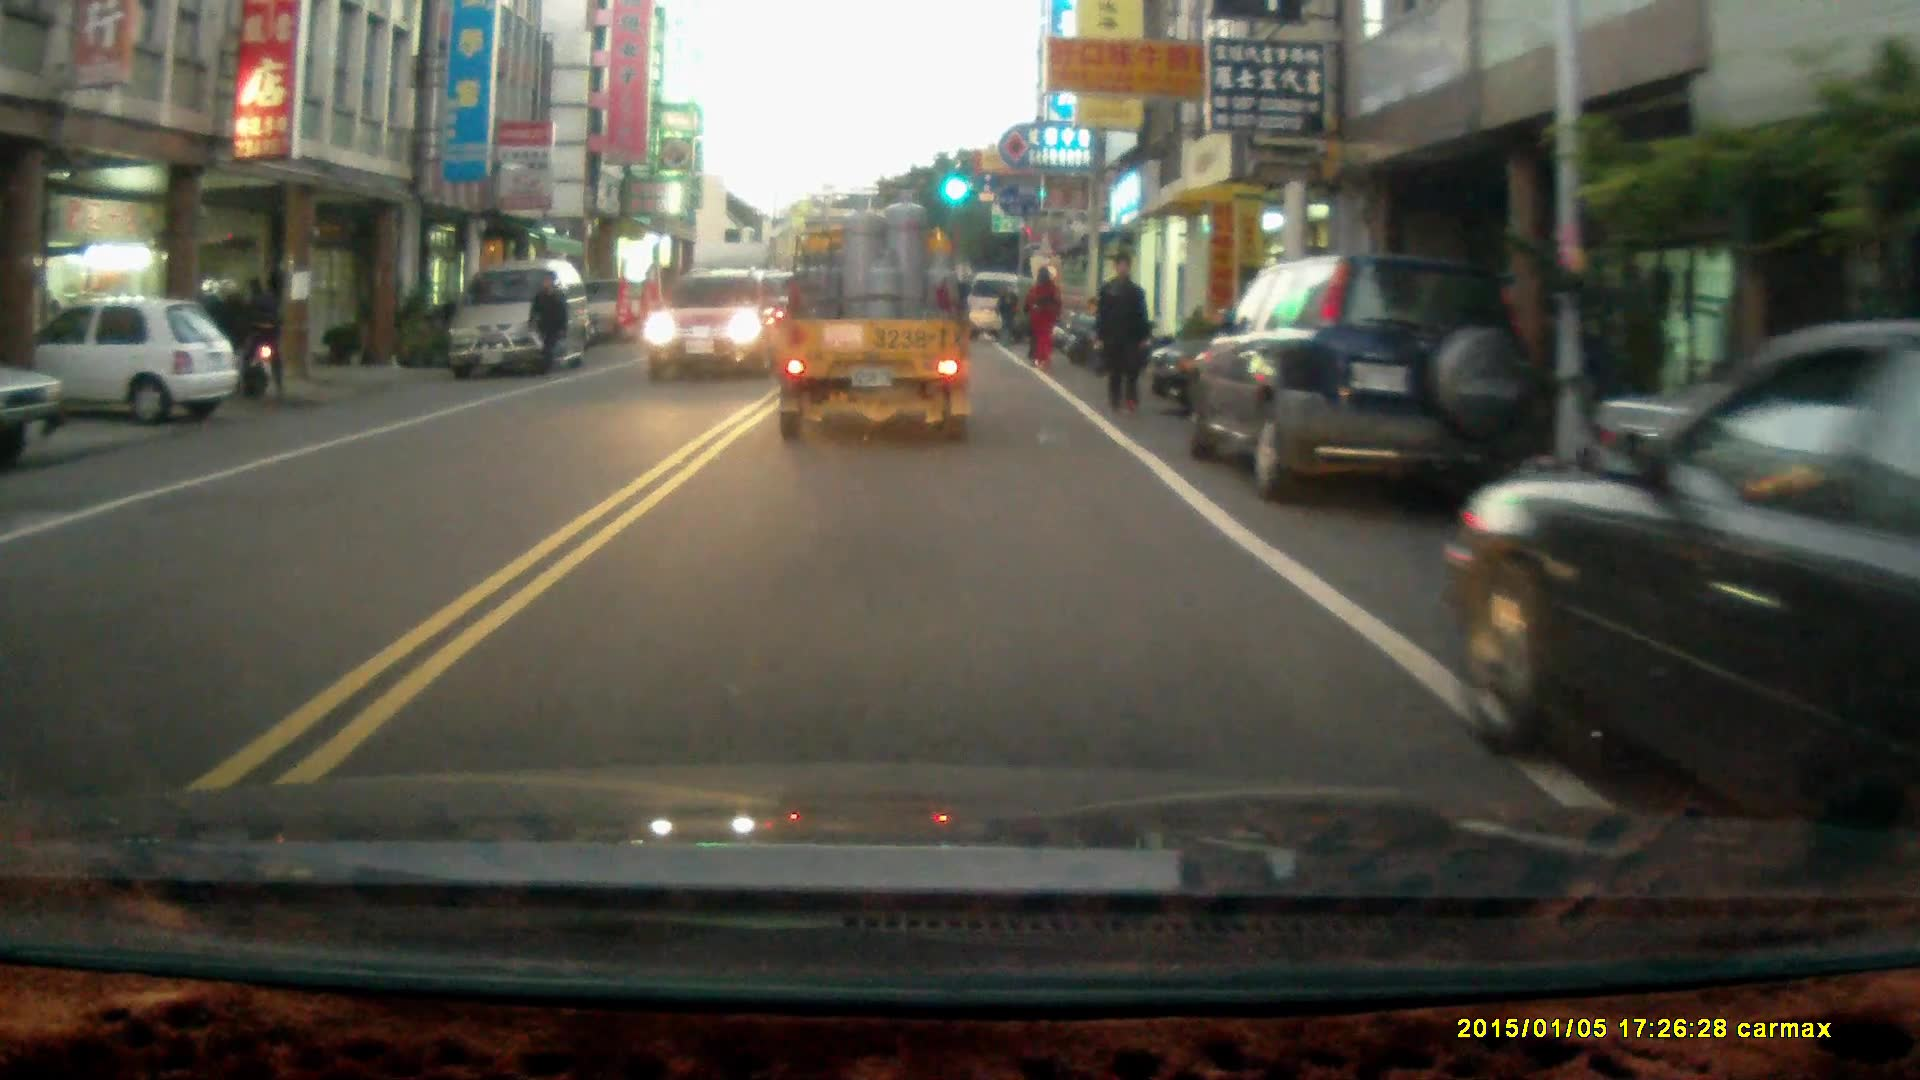pedestrian: (1092, 251, 1153, 420), (242, 268, 289, 397), (527, 272, 571, 383), (1023, 264, 1061, 371), (992, 285, 1020, 348)
rider: (183, 278, 270, 403)
vehicle: (1438, 321, 1920, 824), (1190, 253, 1543, 506), (773, 192, 974, 447), (1, 297, 244, 427), (447, 259, 591, 375), (643, 276, 778, 383)
